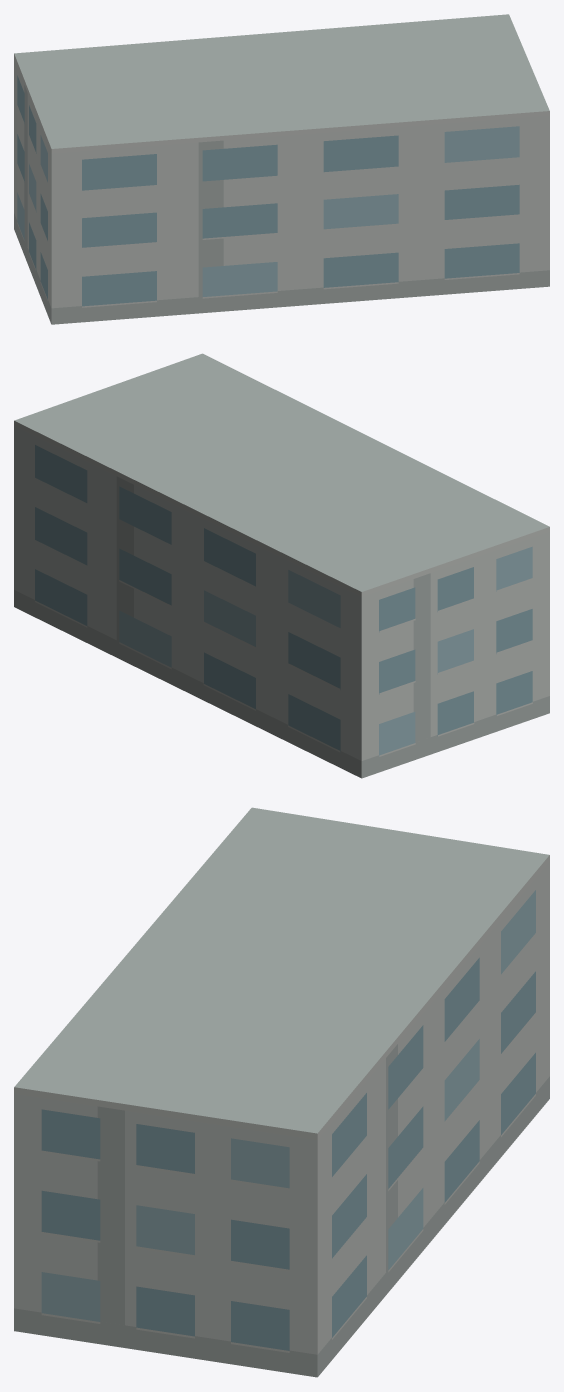
The model's file is survey-upis-32892404.glb.
3 renders of one model, top to bottom at view 1: azimuth 30°, elevation 25°; view 2: azimuth 150°, elevation 25°; view 3: azimuth 270°, elevation 25°, orthographic. The views are drawn at different scales.
Parts seen in each view (by area): view 1: survey-upis-32892404.tmp; view 2: survey-upis-32892404.tmp; view 3: survey-upis-32892404.tmp.
Part boxes in pixels (x1=…): survey-upis-32892404.tmp: x1=14, y1=14, x2=549, y2=324; survey-upis-32892404.tmp: x1=14, y1=353, x2=549, y2=778; survey-upis-32892404.tmp: x1=14, y1=807, x2=549, y2=1377.
Bounding box in the file's own units: 26.24 × 9.15 × 18.22.
